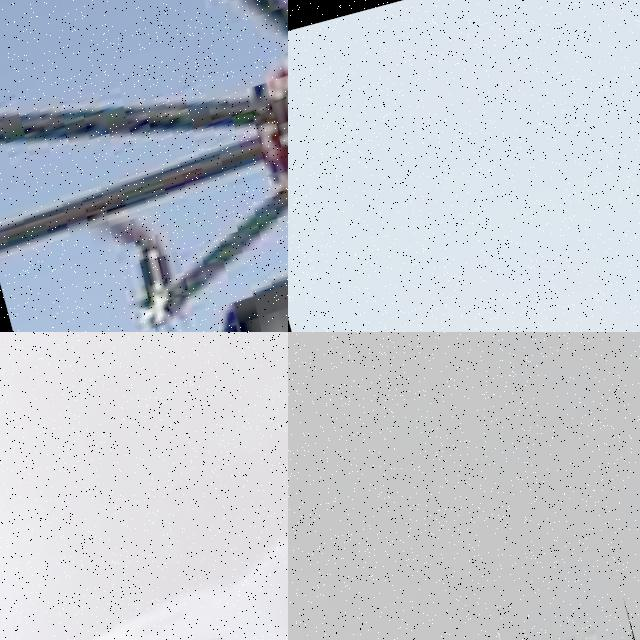0: (0, 0, 288, 332), (496, 597, 636, 640)
drone: (0, 334, 288, 640)
